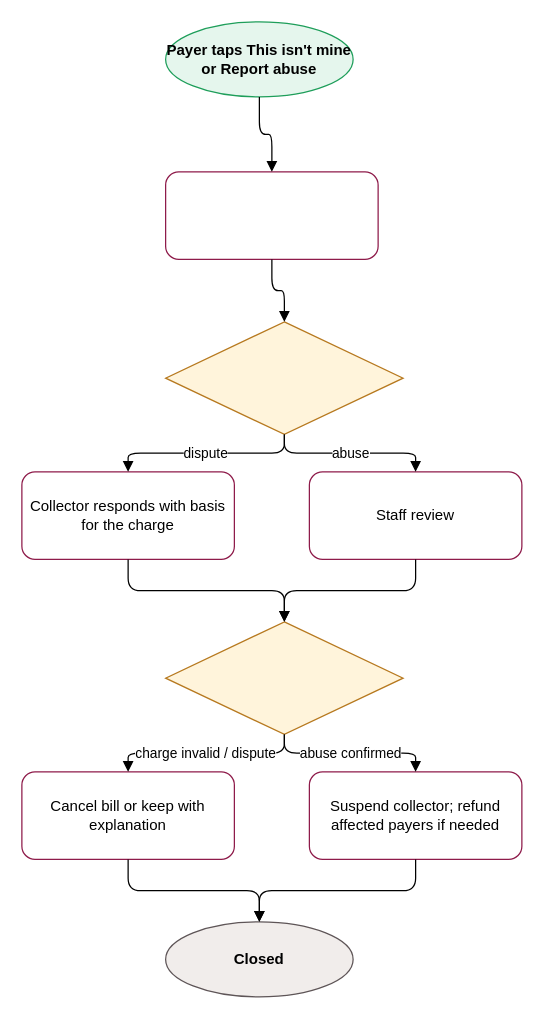
Image size: 544x1019. Some labels were removed from this diagram. The shapes that lost their labels are listed below. From the top down, each one's centre as x and y in pixels, then its label:
the point at 271,215: Create case; notify collector (dispute) or staff (abuse)
the point at 283,377: Type
the point at 283,677: Valid?
